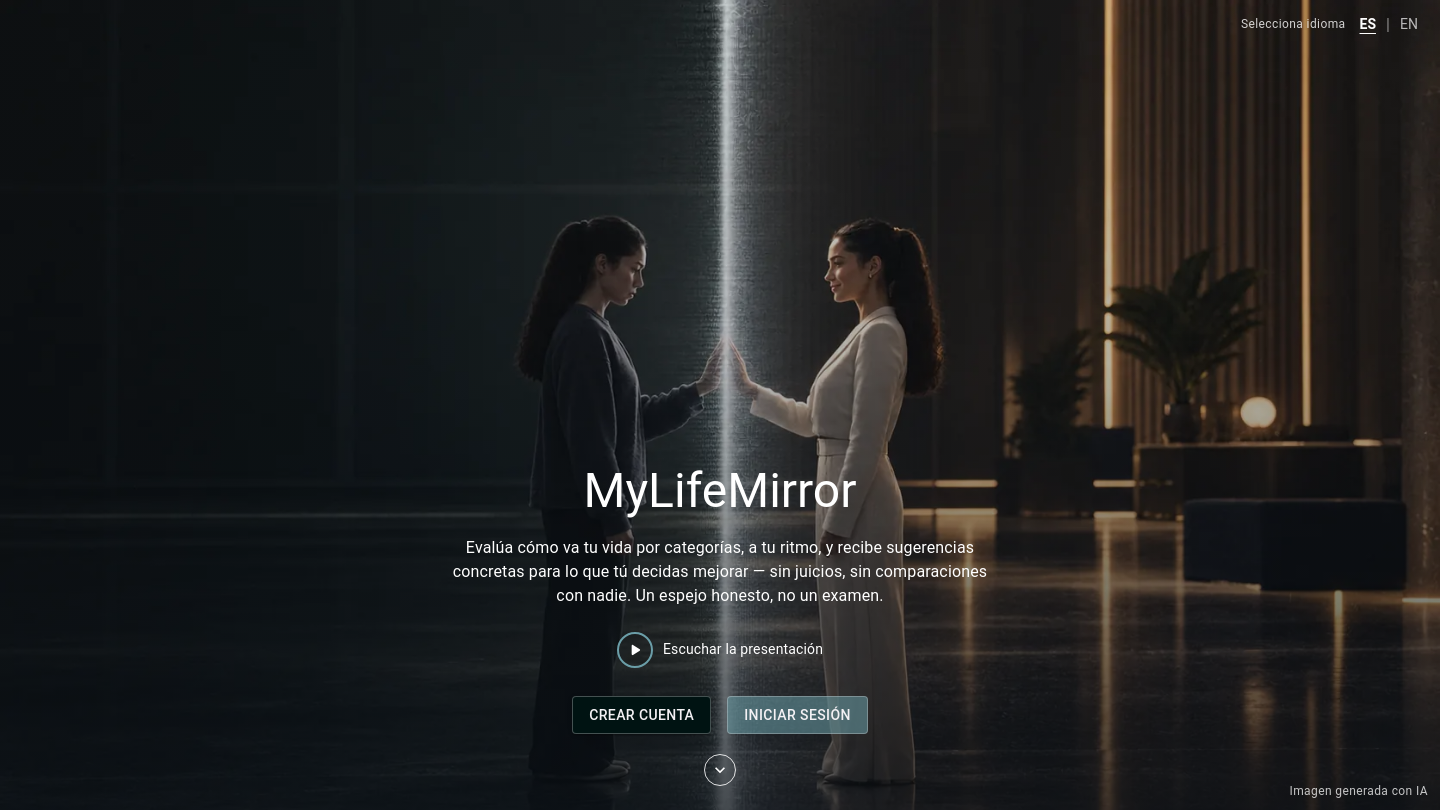
Test: PublicLayout (páginas públicas) › se puede pasar la portada a inglés antes de tener cuenta
The image size is (1440, 810).
Click the button with aria-label "English" at (1409, 24), box [1394,12,1424,37]
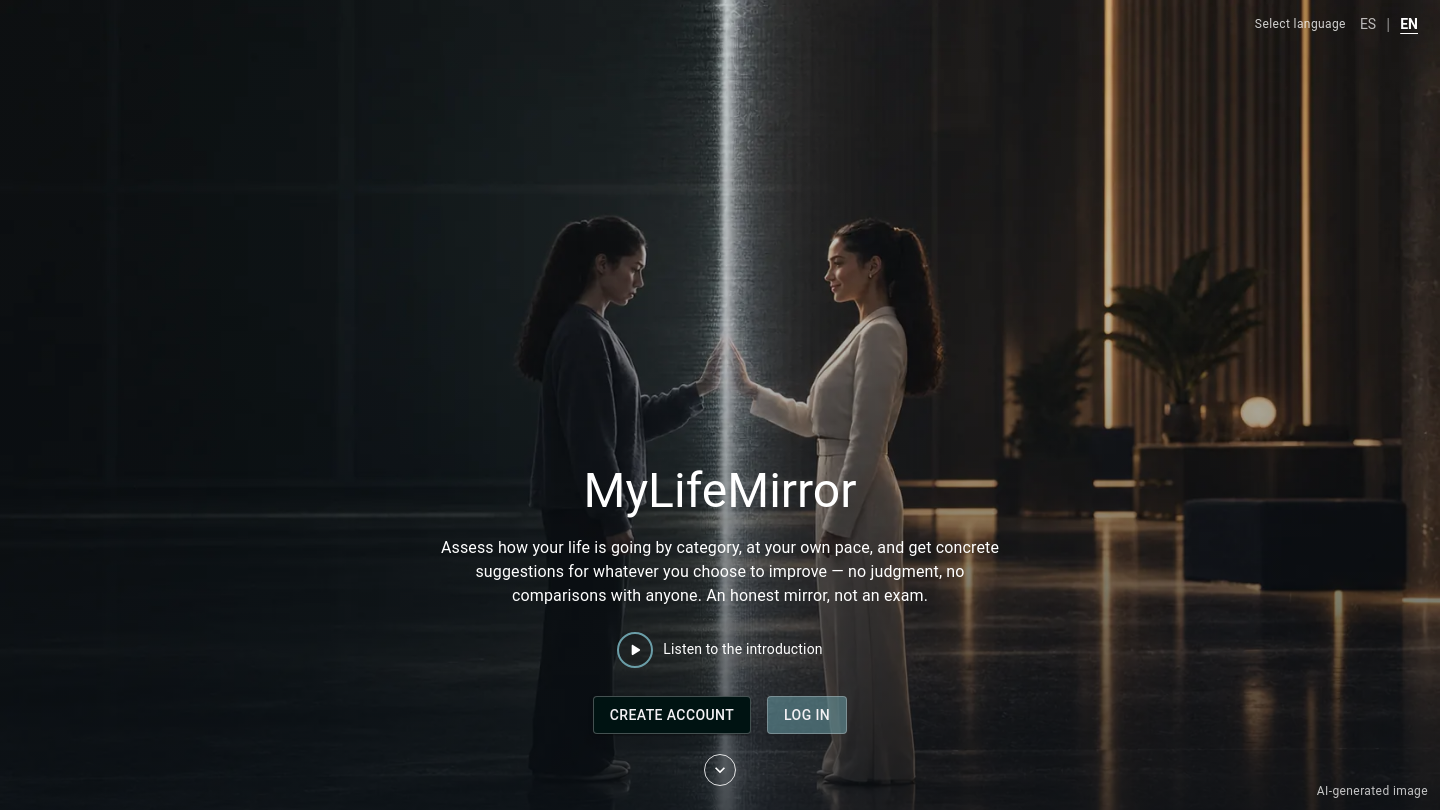
Now the link "Create account" is shown, box [593,696,751,734]
